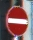No entry: (5, 5, 28, 35)
